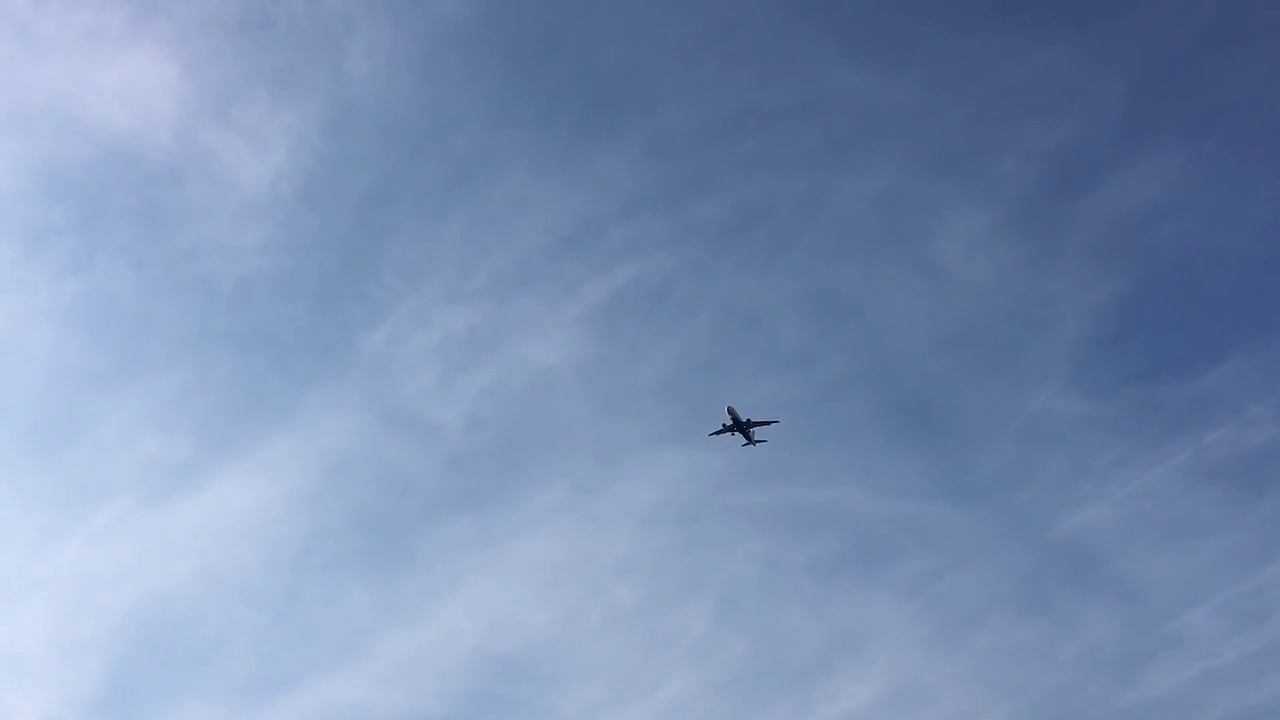plane: (706, 401, 781, 446)
